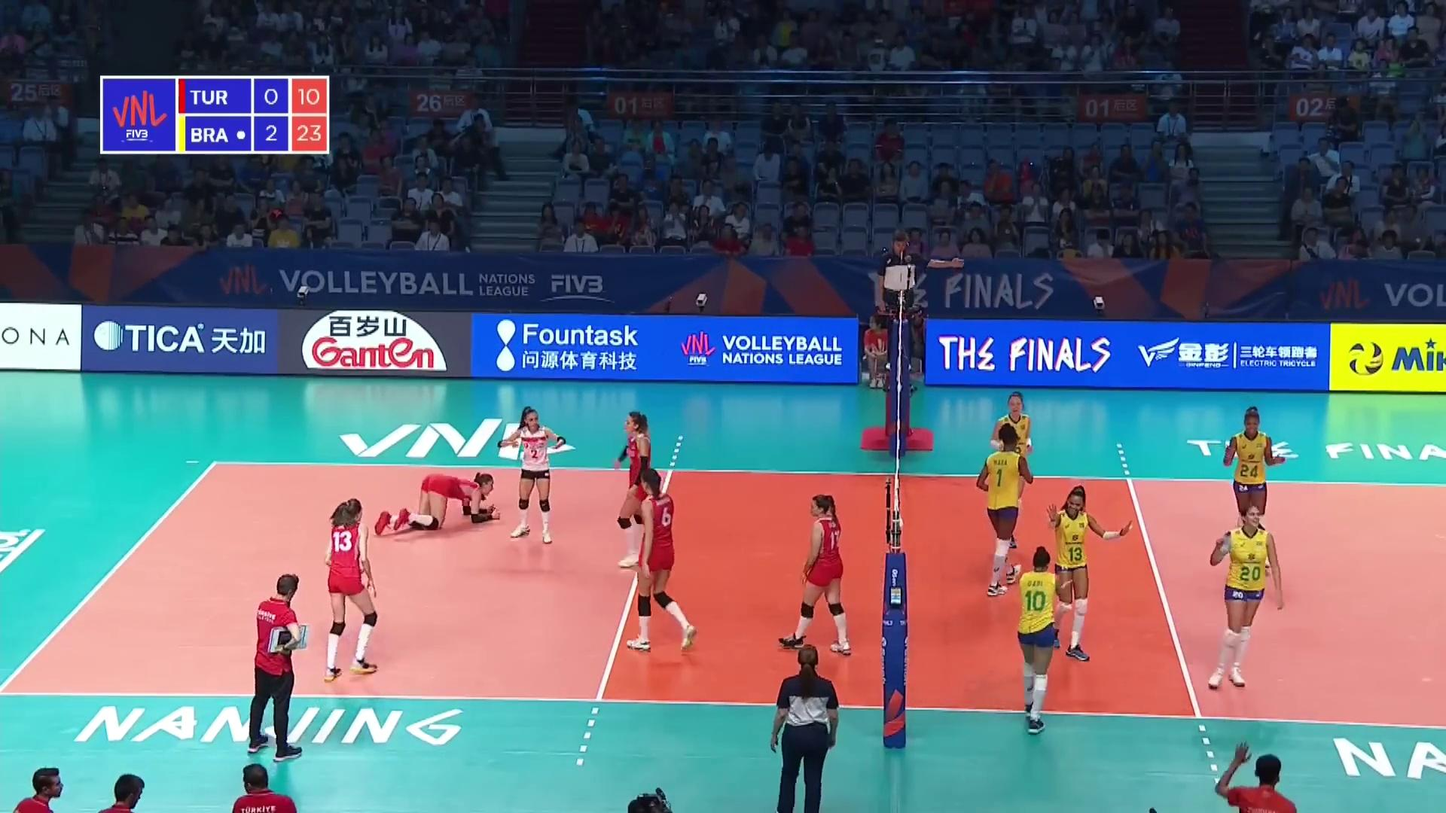player: (1209, 504, 1288, 696), (1051, 486, 1136, 660), (628, 467, 699, 648), (779, 492, 848, 654), (974, 430, 1036, 598), (1225, 405, 1288, 570), (1016, 542, 1069, 735), (325, 497, 380, 677), (501, 410, 567, 541), (372, 467, 502, 532), (616, 414, 656, 572), (992, 393, 1036, 524)
refree: (767, 646, 842, 810), (880, 229, 939, 375)
